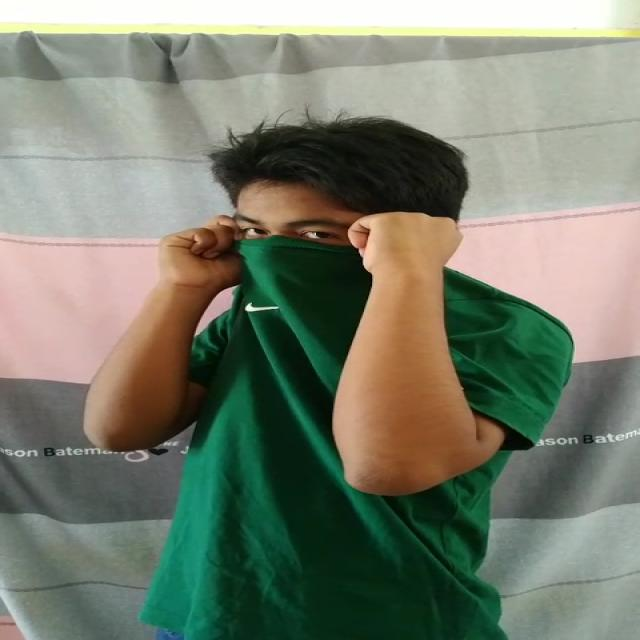8_ropa_rostro: (178, 229, 433, 330)
